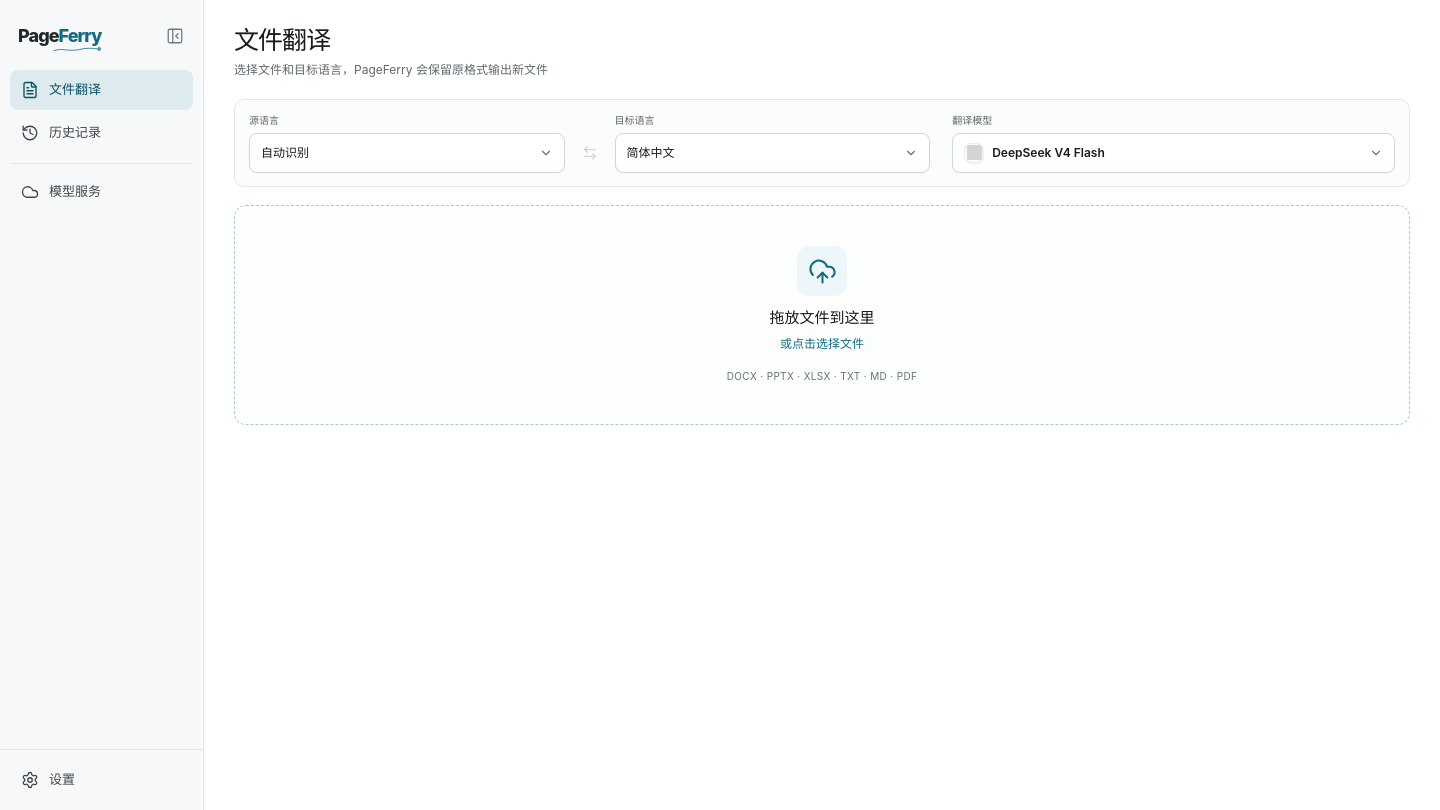
Scenario: App › 历史任务分别展示译文版和双语版的系统打开方式
The image size is (1440, 810).
Step 1. Click the button "历史记录" → (102, 133), box [10,113,193,153]
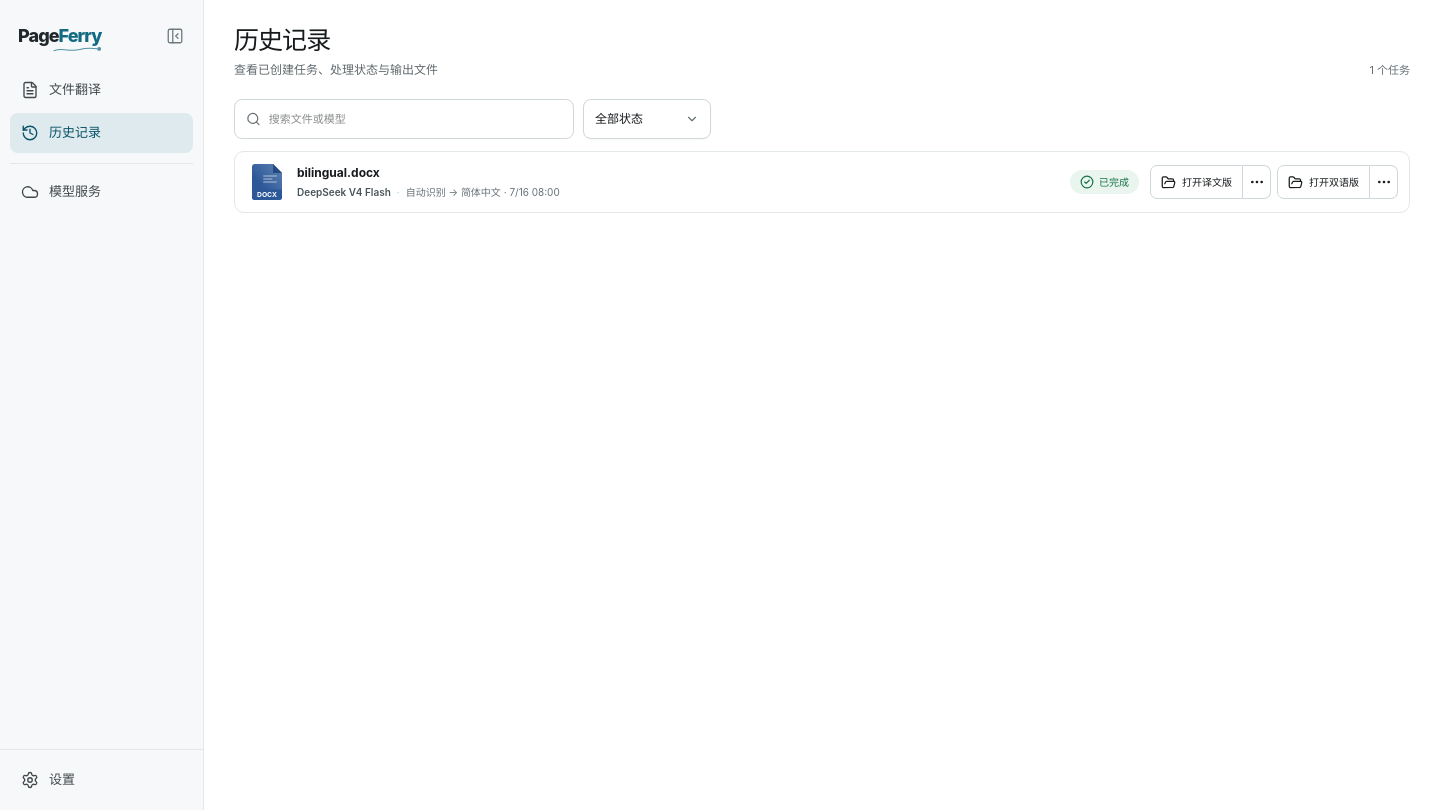
Check: the button "打开译文版" is shown, box [1150,165,1243,199]
Check: the button "打开双语版" is shown, box [1277,165,1370,199]
Step 2. Press the mouse on the button named "双语版打开方式" → (1384, 182), box [1370,165,1398,199]
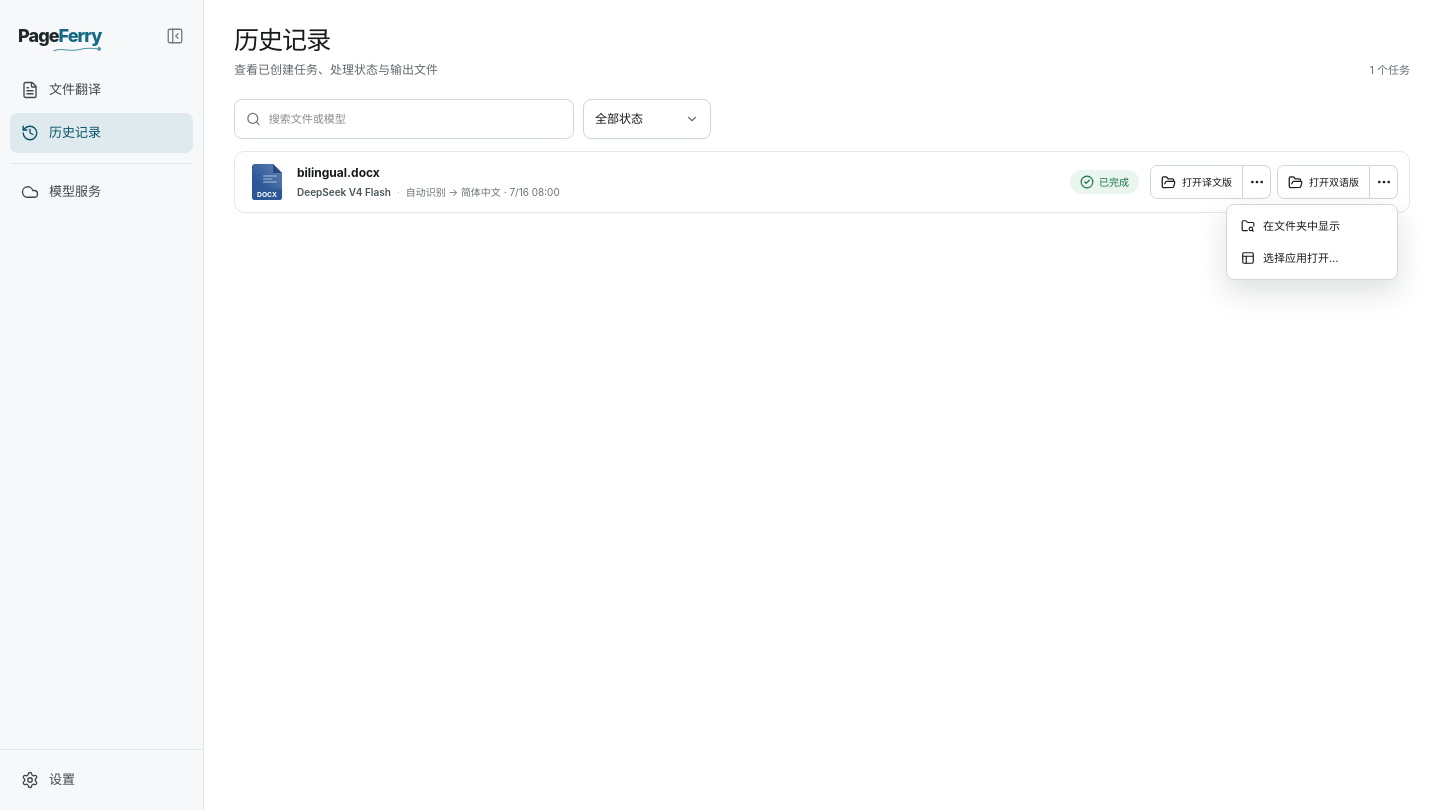
Check: the menu item "在文件夹中显示" is shown, box [1241,219,1340,233]
Check: the menu item "选择应用打开…" is shown, box [1241,251,1338,265]
